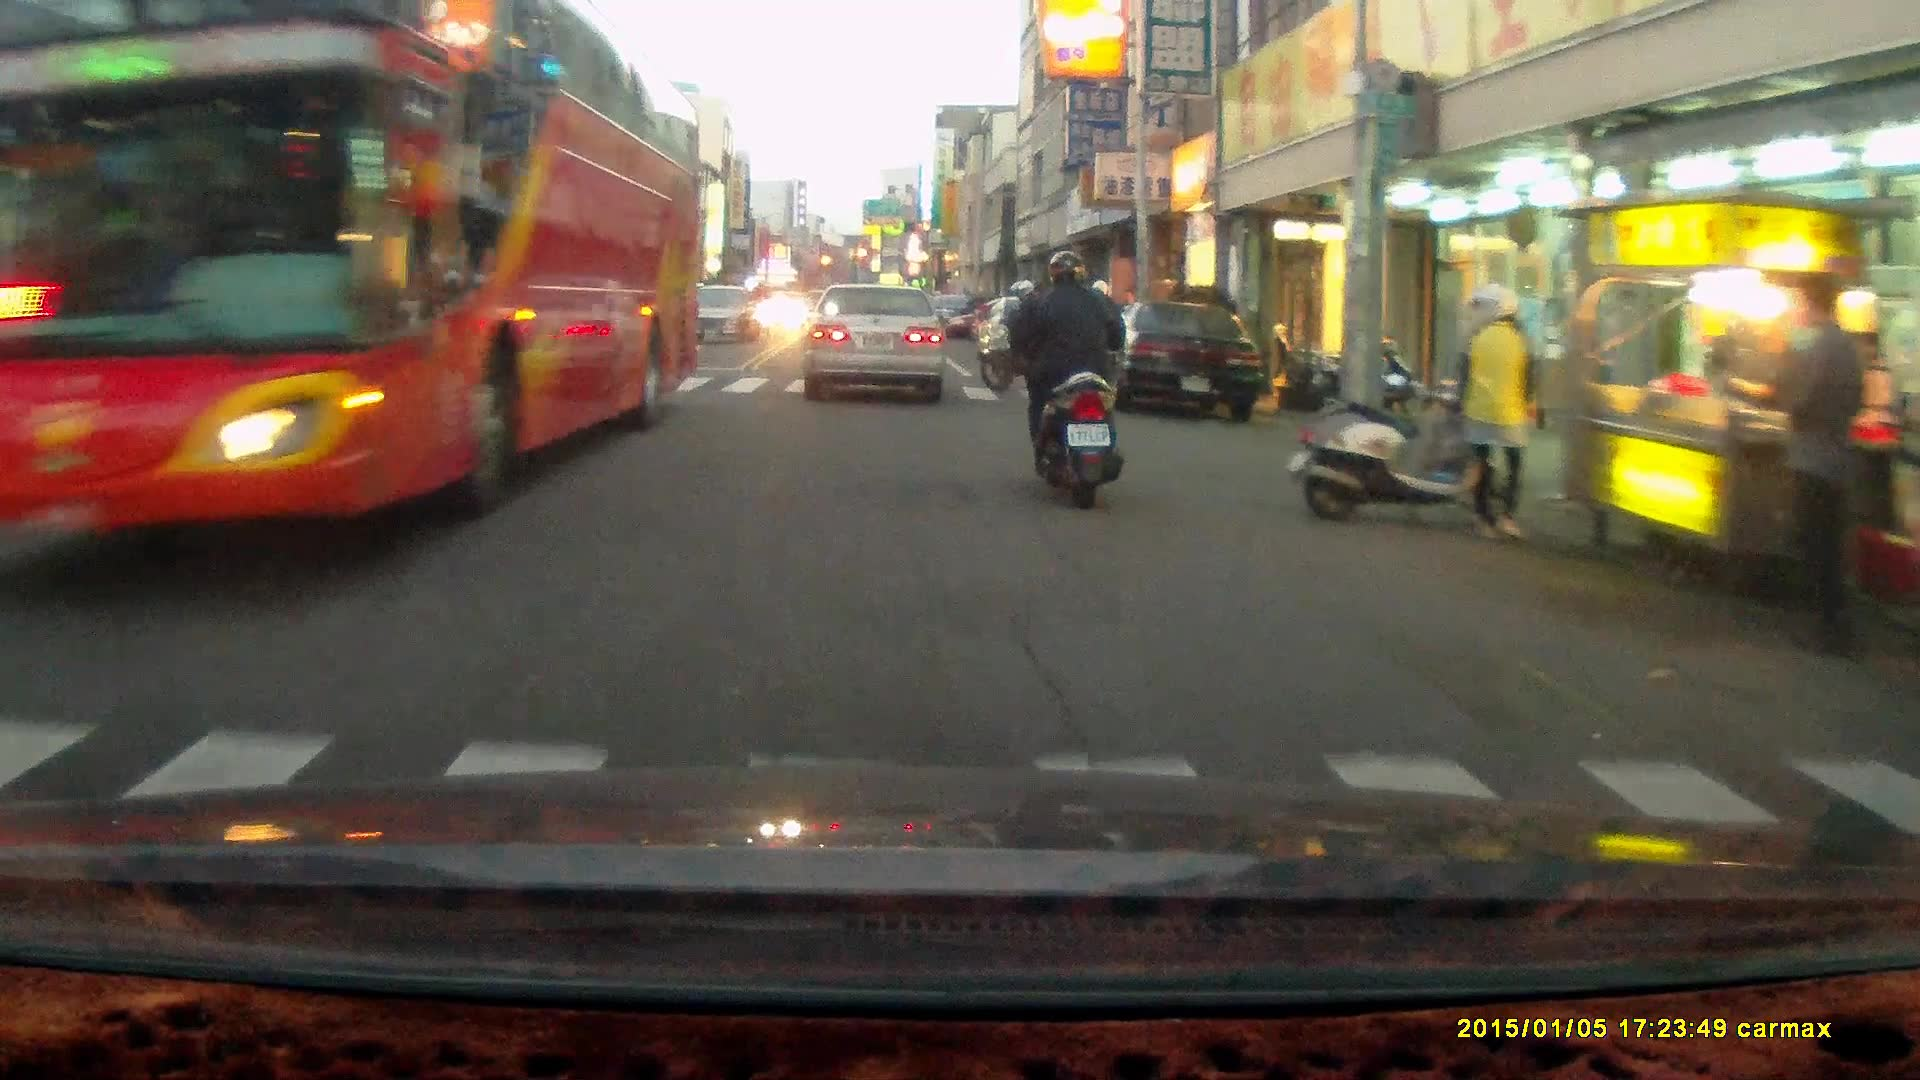pedestrian: (1725, 275, 1868, 661), (1451, 279, 1537, 546), (1841, 321, 1903, 493)
rider: (1000, 250, 1122, 513), (982, 273, 1053, 396)
vehicle: (1, 17, 708, 536), (1088, 300, 1274, 424), (802, 282, 948, 403), (695, 287, 756, 350)
